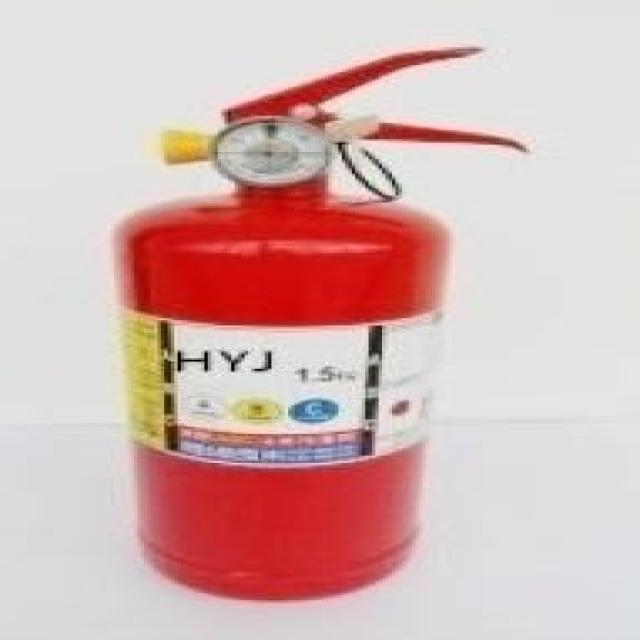fire_extinguisher: (94, 38, 536, 607)
